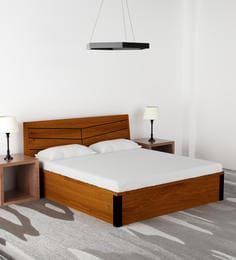bed: (19, 112, 229, 231)
